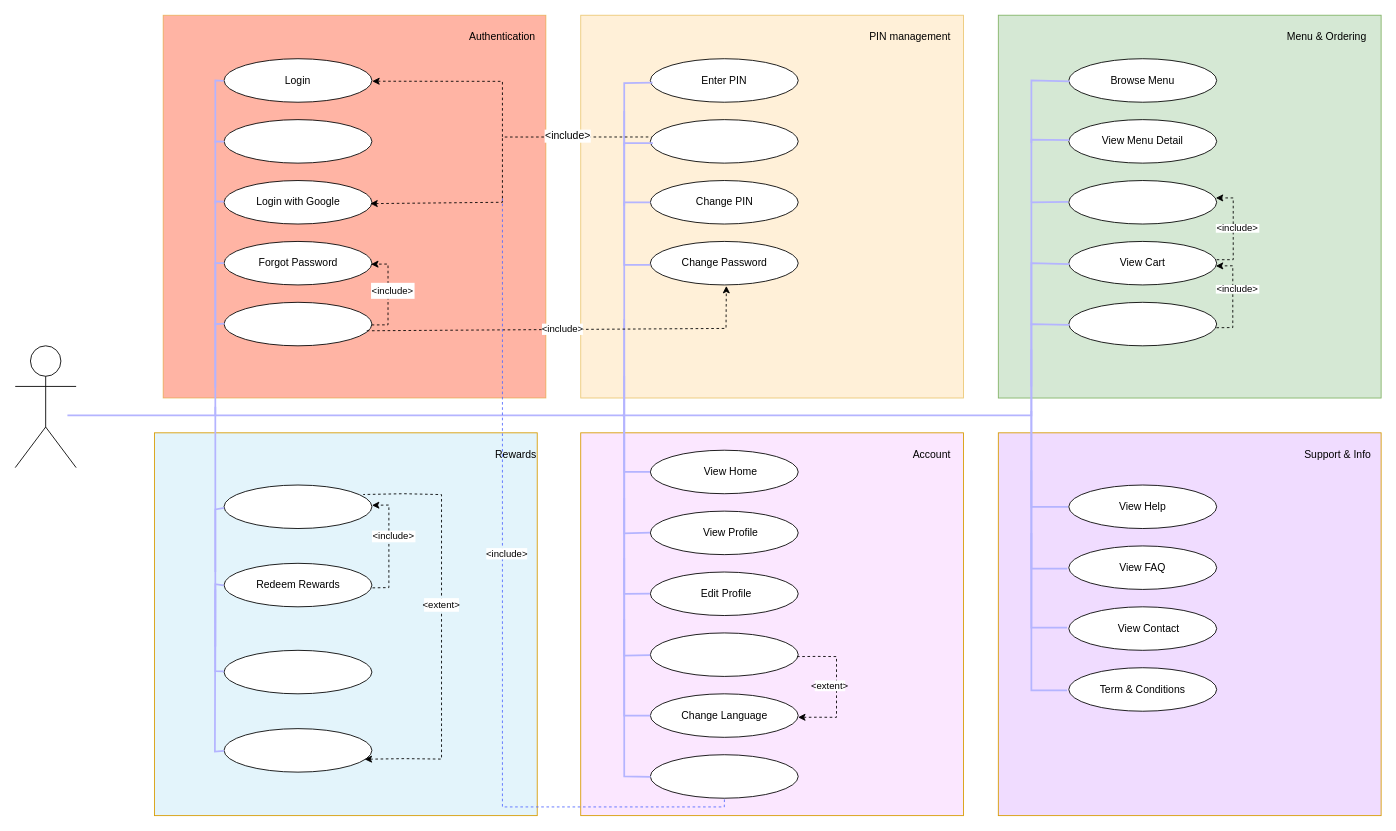
Some shapes in this 1396 by 831 pixel diagram are drawn without their labels. The shapes that lost their labels are listed below. From the top down, each one's centre as x and y in pixels, then its label:
pixel 297 141: Register
pixel 723 141: Set PIN
pixel 1142 202: Add to Cart
pixel 297 323: OTP Verification
pixel 1142 323: Checkout & Pay
pixel 45 406: User
pixel 297 506: View Rewards
pixel 297 671: View My Rewards
pixel 723 654: Manage Settings
pixel 297 750: View Member Privilledge
pixel 723 776: Logout
